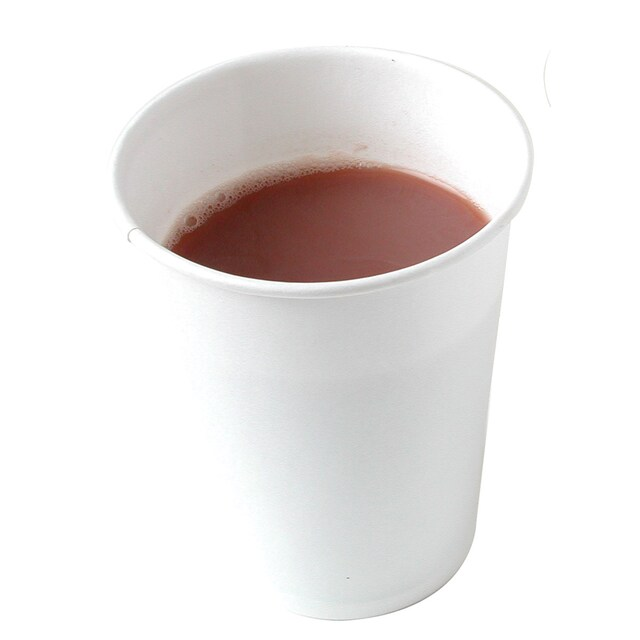PaperCup: (103, 39, 537, 625)
